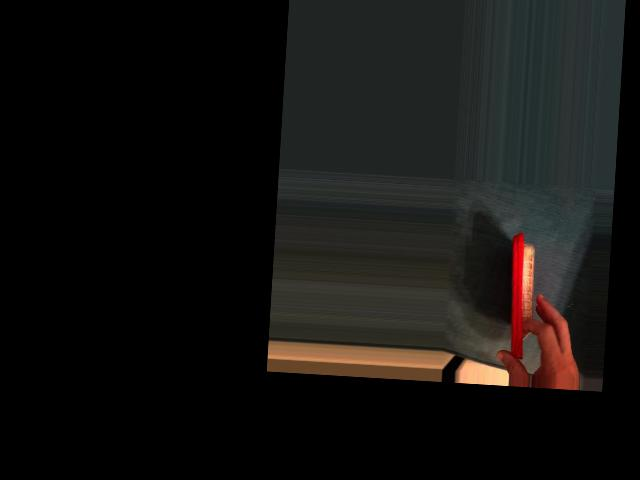cheese: (497, 229, 551, 362)
